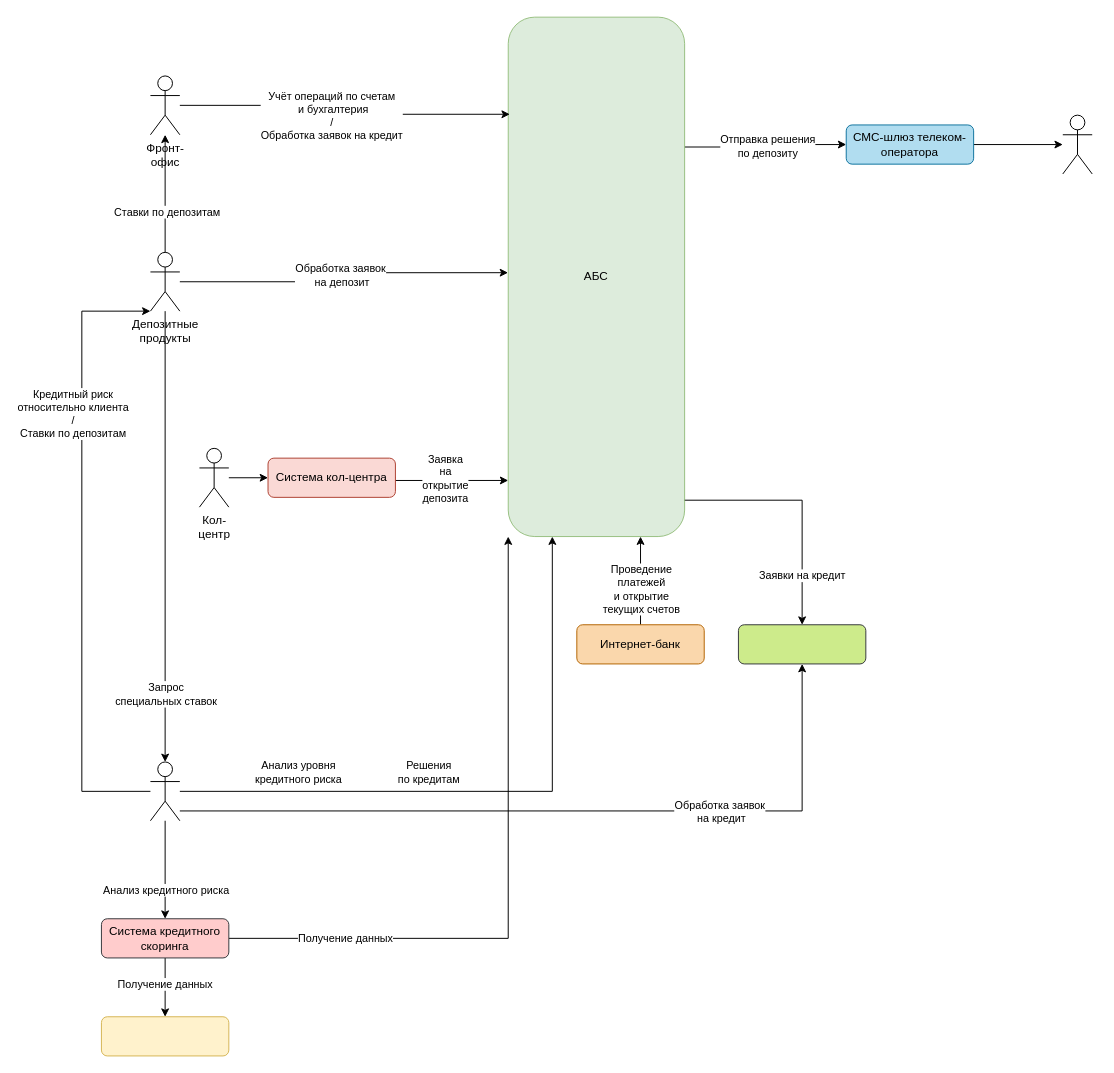
The diagram is 1114 pixels wide and 1073 high, and some of its shapes have lost their labels. Each missing label, with the centre of its shape:
"Бюро кредитных историй" belongs at [164,1036].
"Клиент" belongs at [1077,144].
"Кредитные продукты" belongs at [164,791].
"Кредитный конвейер" belongs at [801,644].
